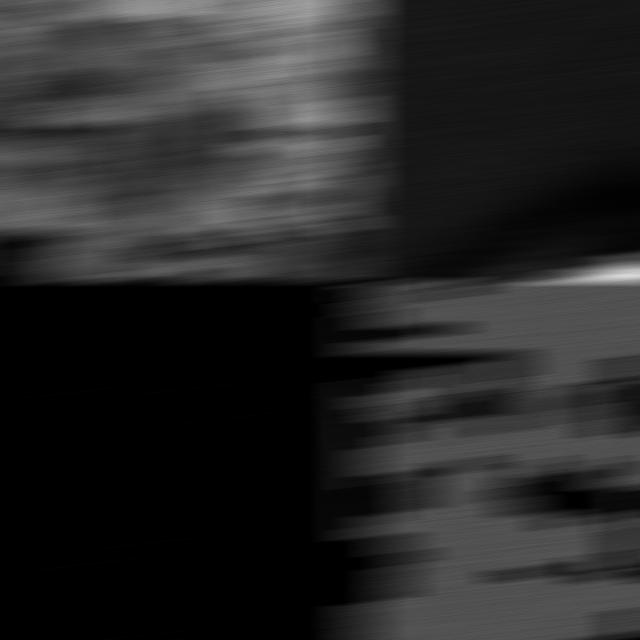AirbagV2: (346, 282, 640, 639), (0, 1, 370, 280), (346, 1, 640, 280)
